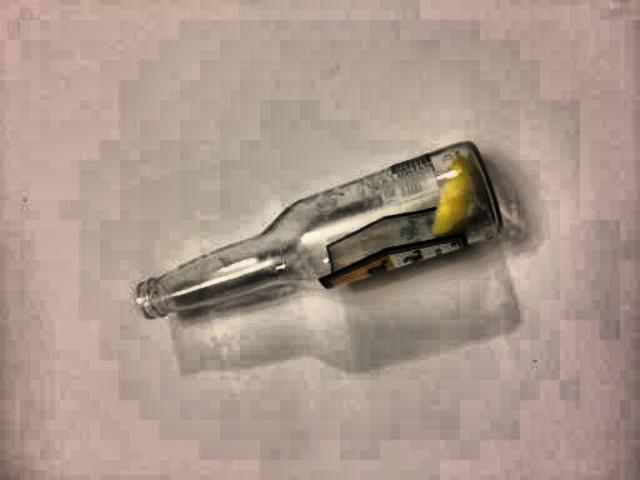Bottles: (75, 113, 501, 327)
